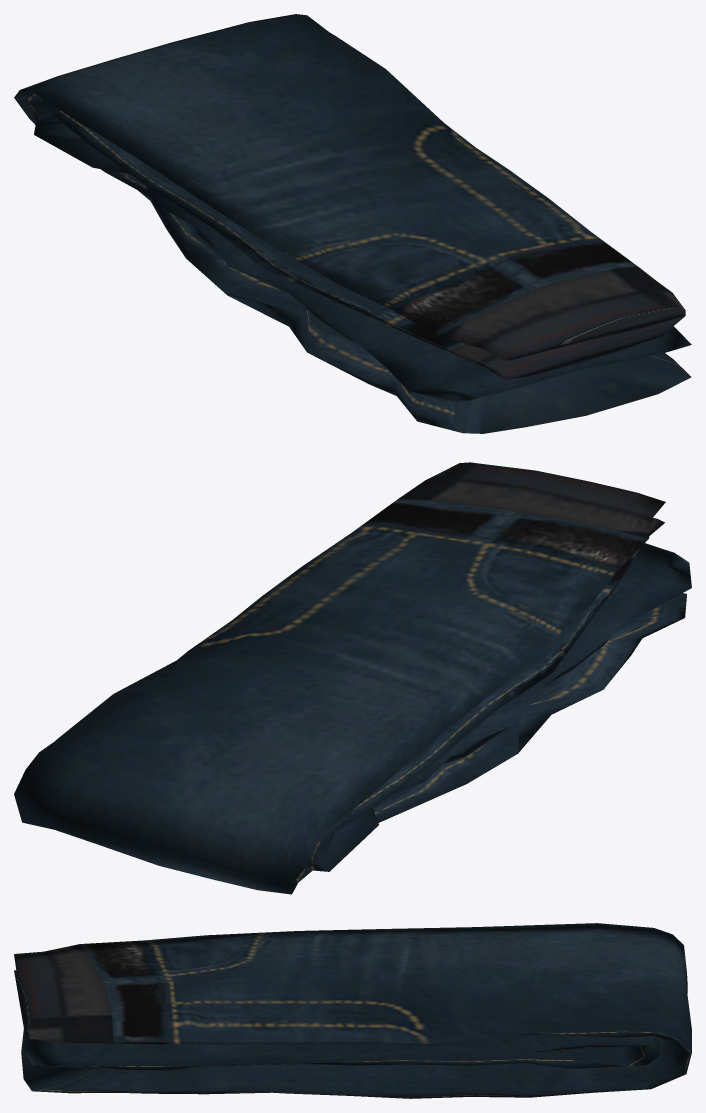
The model's file is Jeans_Blue.fbx.
The picture shows the model from 3 angles, top to bottom: view 1: azimuth 30°, elevation 25°; view 2: azimuth 150°, elevation 25°; view 3: azimuth 270°, elevation 25°; orthographic projection. The views are drawn at different scales.
Parts seen in each view (by area): view 1: Jeans_Blue; view 2: Jeans_Blue; view 3: Jeans_Blue.
Part boxes in pixels (box(x1,y1,x2,y2)): Jeans_Blue: box(14, 14, 691, 433); Jeans_Blue: box(14, 462, 691, 894); Jeans_Blue: box(14, 923, 691, 1098).
Bounding box in the file's own units: 0.2629 × 0.0783 × 0.6479.
